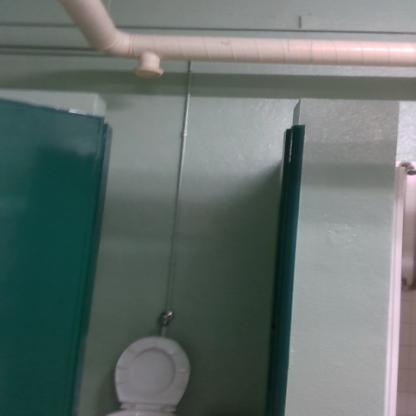open: (9, 58, 346, 415)
